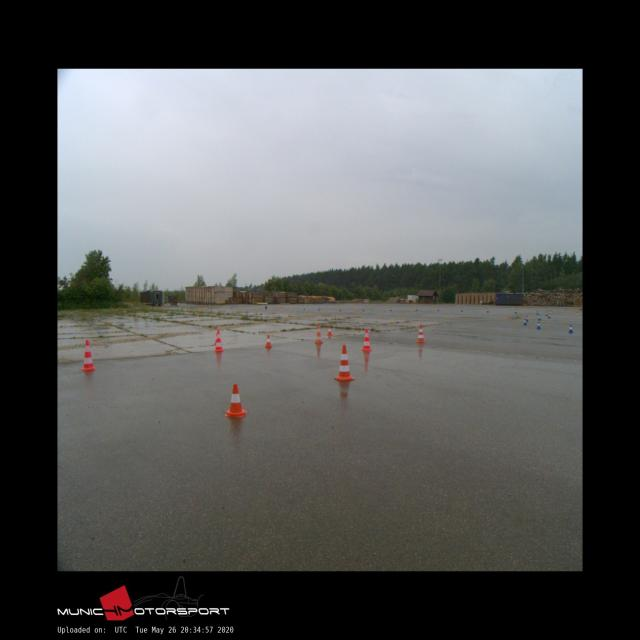blue_cone: (568, 324, 574, 332), (536, 321, 541, 329), (523, 318, 527, 325), (525, 316, 529, 322), (547, 313, 551, 319), (538, 314, 541, 320), (545, 311, 548, 316), (536, 310, 539, 315)
large_orange_cone: (334, 344, 354, 380), (81, 339, 96, 371), (361, 328, 372, 350), (416, 323, 424, 343), (215, 330, 222, 351), (315, 325, 323, 342)
orange_cone: (225, 384, 247, 416), (264, 336, 272, 348), (327, 325, 332, 336)
yellow_cone: (576, 310, 578, 315), (550, 309, 552, 313)
